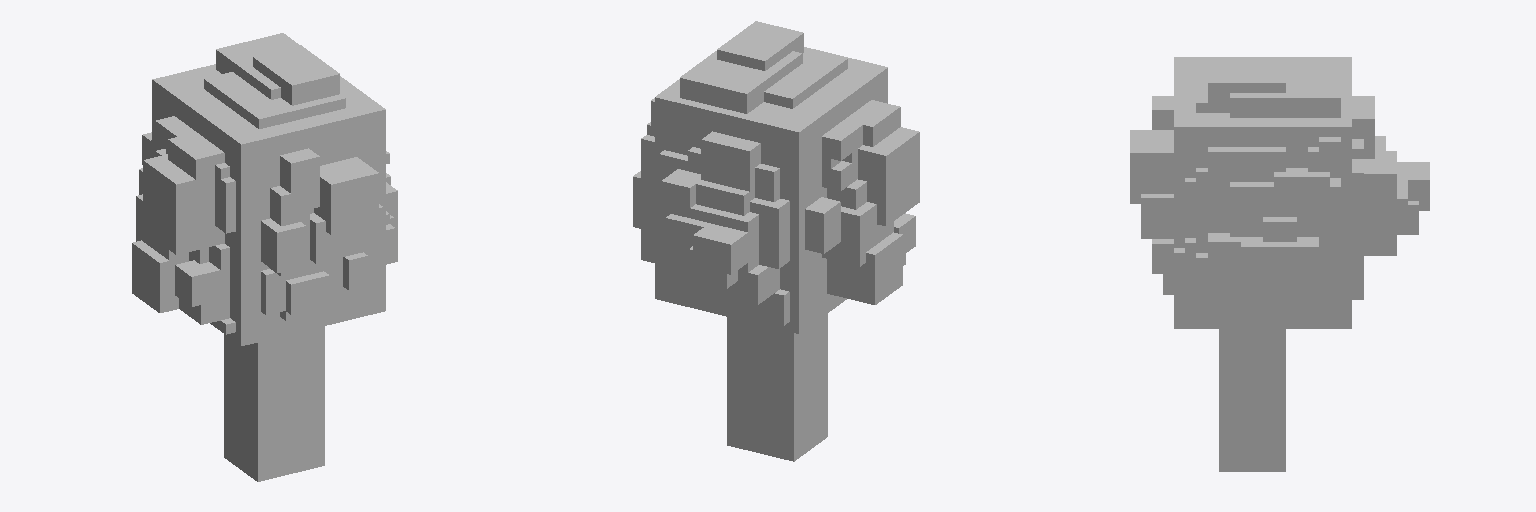
The model's file is tree1.obj.
3 renders of one model, left to right at view 1: azimuth 30°, elevation 25°; view 2: azimuth 150°, elevation 25°; view 3: azimuth 270°, elevation 25°, orthographic.
Size of the model in its own units: 24 by 39 by 27.